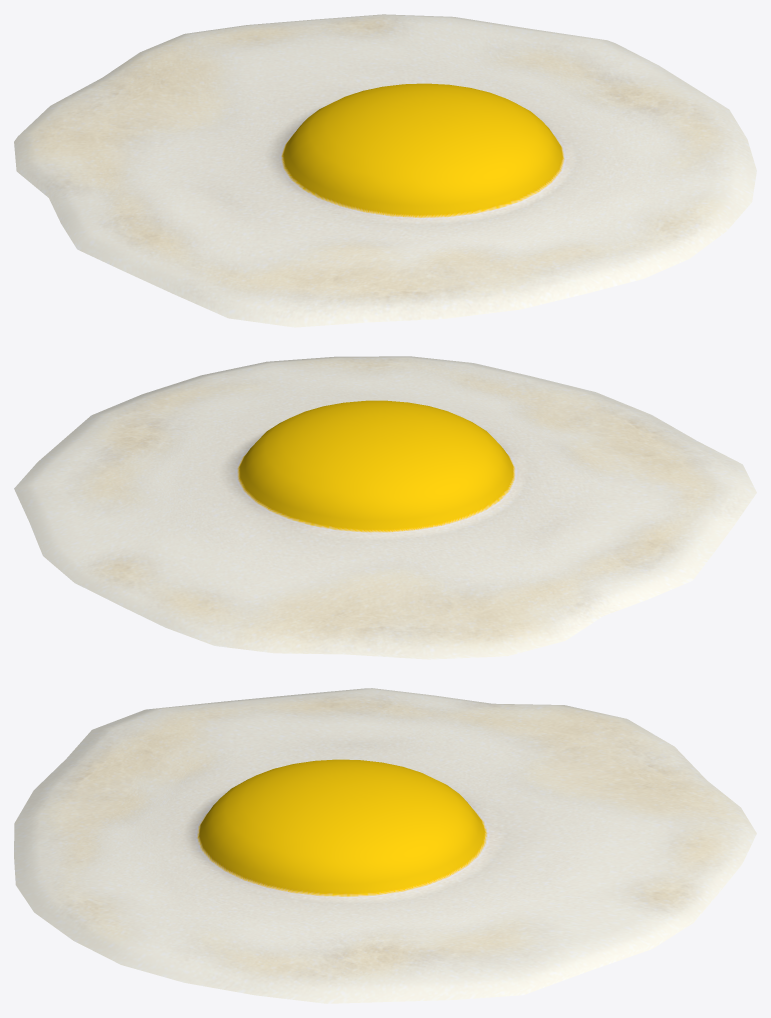
Rendered from Egg_Cracked_6.obj.
3 views of the same model, one above another, from view 1: azimuth 30°, elevation 25°; view 2: azimuth 150°, elevation 25°; view 3: azimuth 270°, elevation 25° (orthographic). The views are drawn at different scales.
Parts seen in each view (by area): view 1: fried_egg_6; view 2: fried_egg_6; view 3: fried_egg_6.
Part boxes in pixels (x1=…): fried_egg_6: x1=14, y1=14, x2=756, y2=327; fried_egg_6: x1=14, y1=356, x2=756, y2=659; fried_egg_6: x1=14, y1=688, x2=756, y2=1003.
Bounding box in the file's own units: 0.1172 × 0.0118 × 0.1166.
